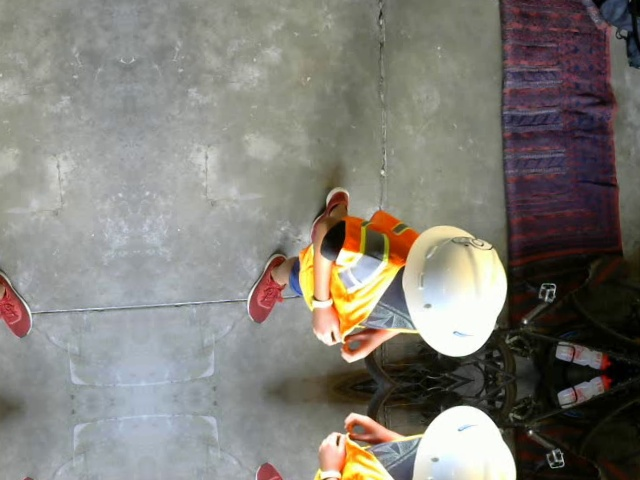eight: (449, 232, 493, 253)
